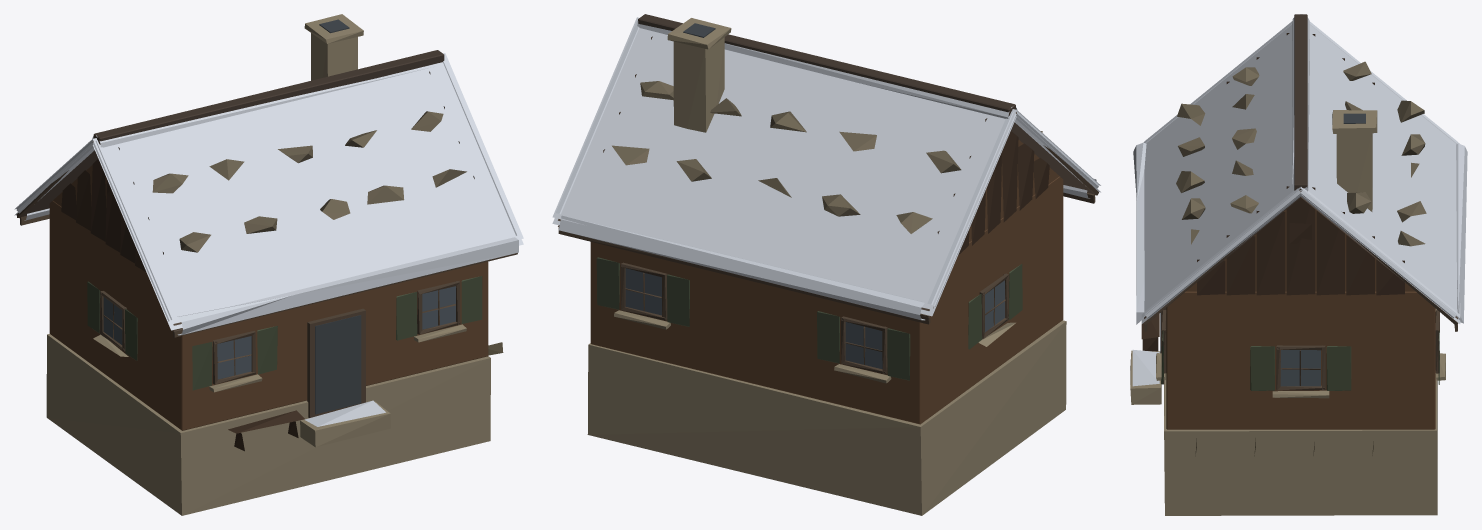
File: alpine-hut-snow-lod1.glb
The picture shows the model from 3 angles, left to right: view 1: azimuth 30°, elevation 25°; view 2: azimuth 150°, elevation 25°; view 3: azimuth 270°, elevation 25°; orthographic projection. The views are drawn at different scales.
Bounding box in the file's own units: 9.35 × 9.02 × 7.51.
